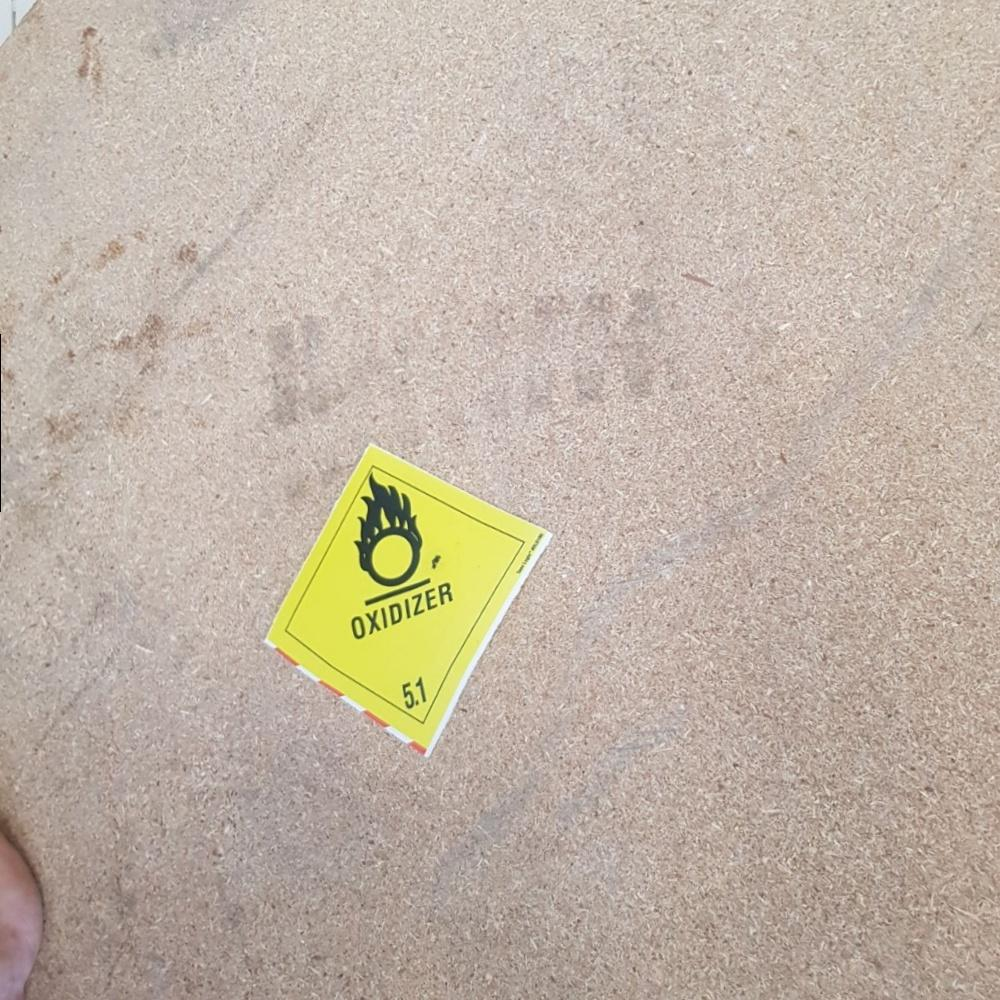oxidizer: (265, 439, 559, 759)
